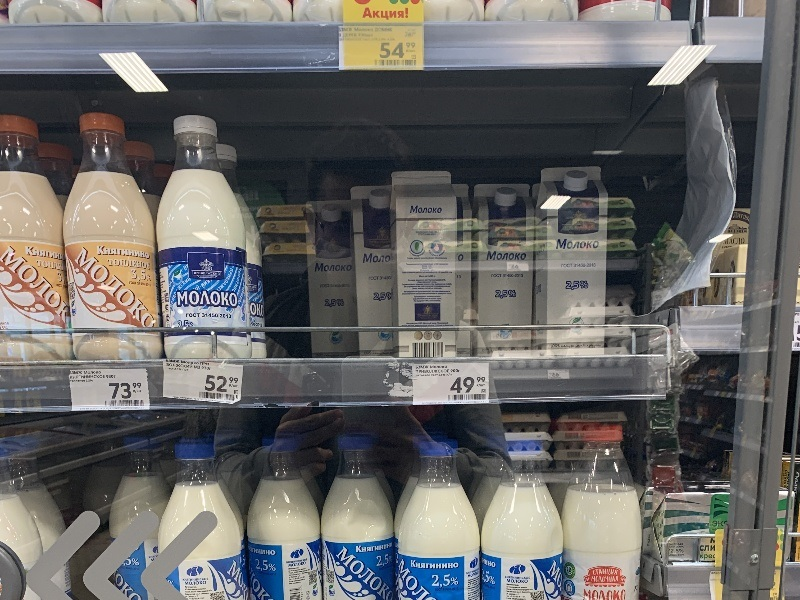milk: (57, 110, 175, 364), (147, 112, 257, 369), (1, 108, 87, 369), (317, 430, 400, 598), (246, 437, 326, 596)
